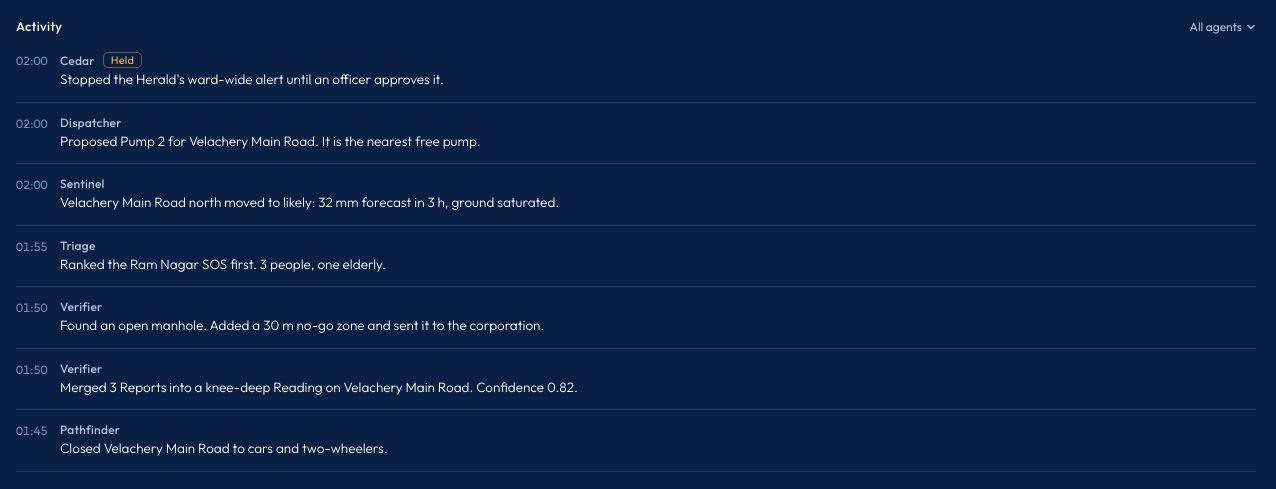
Test: the filter narrows the feed to one agent
The image size is (1276, 489).
Expected: the text "Merged 3 Reports" is shown, 60,378 -> 578,396
Click the button "All agents" at (1223, 26), box 1190,19 -> 1256,34
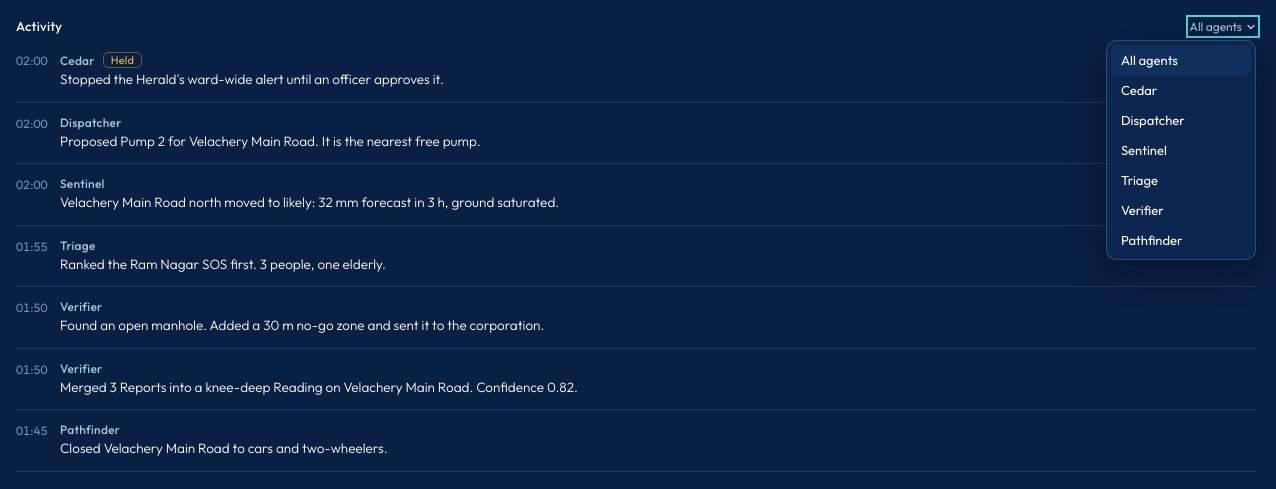
Click the option "Triage" at (1139, 180), box 1121,172 -> 1158,188
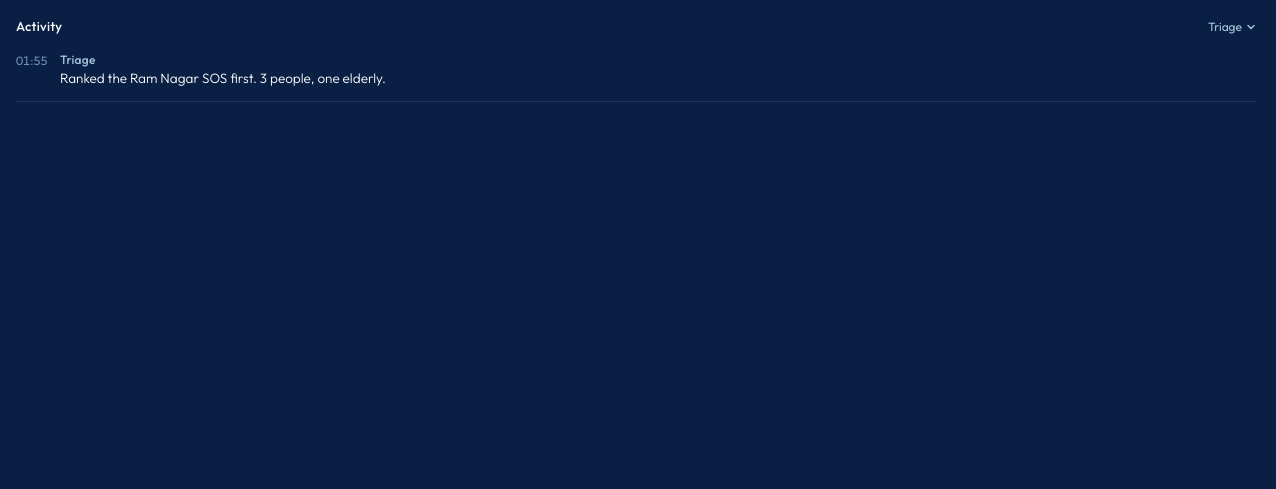
Expected: the text "Ranked the Ram Nagar SOS first. 3 people, one elderly." is shown, 60,69 -> 386,87
Result: the button "Merged 3 Reports" is gone
